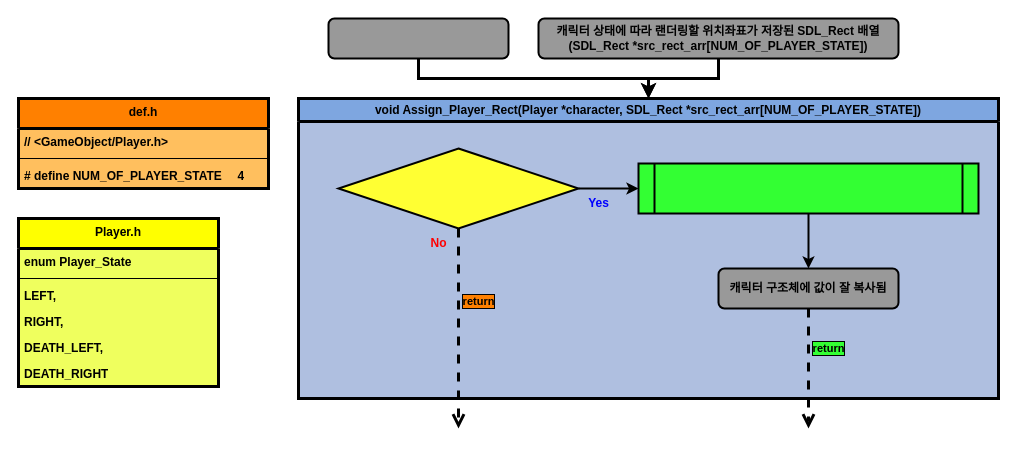
Some shapes in this 1017 by 457 pixel diagram are drawn without their labels. Each missing label, with the centre of its shape:
"character->Src_rect[NUM_OF_PLAYER_STATE] 배열에 매개변수로 주어진 src_rect_arr 값들 복사" belongs at pixel 808 188.
"매개변수들이 잘 초기화 되어있는가?" belongs at pixel 458 188.
"초기화된 캐릭터 구조체 주소 (Player *character)" belongs at pixel 418 38.
